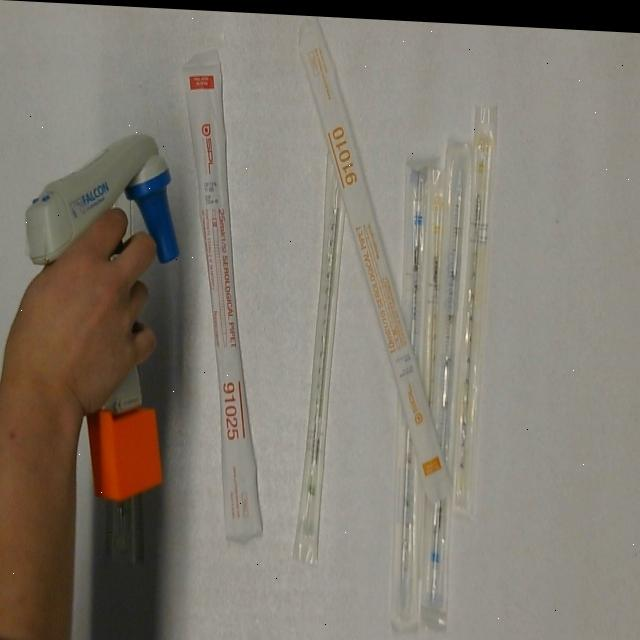Pipette Controller: (21, 122, 181, 506)
Serelogical Pipet 1 mL - Sealed: (454, 94, 502, 515), (421, 160, 451, 414)
Serelogical Pipet 10 mL - Sealed: (295, 12, 457, 500)
Serelogical Pipet 2 mL - Sealed: (288, 136, 356, 567)
Serelogical Pipet 25 mL - Sealed: (183, 49, 265, 541)
Serelogical Pipet 5 mL - Sealed: (422, 136, 479, 613), (383, 147, 437, 632)
